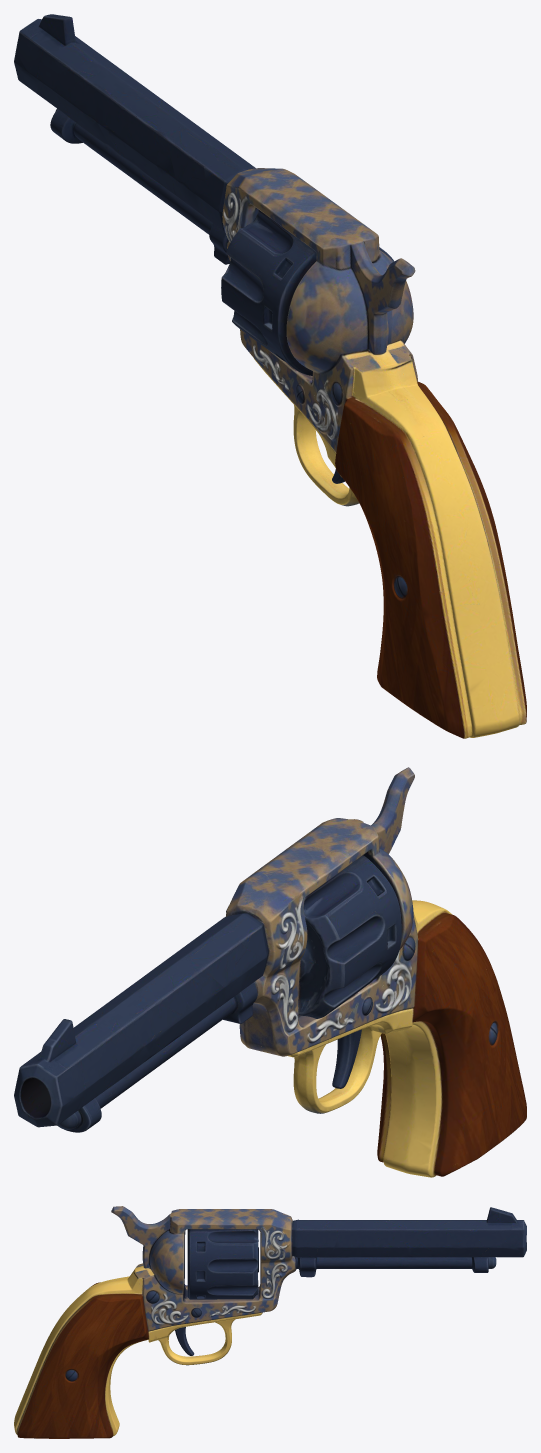
File: revolver_body.glb
The picture shows the model from 3 angles, top to bottom: view 1: azimuth 30°, elevation 25°; view 2: azimuth 150°, elevation 25°; view 3: azimuth 270°, elevation 25°; orthographic projection. The views are drawn at different scales.
Parts seen in each view (by area): view 1: Mesh_0; view 2: Mesh_0; view 3: Mesh_0.
Part boxes in pixels (x1,y1,x2,y2): Mesh_0: (14, 14, 526, 738); Mesh_0: (14, 767, 526, 1177); Mesh_0: (14, 1206, 526, 1438).
Bounding box in the file's own units: 0.0548 × 0.1715 × 0.354.
Materials: 1 (1 with a texture image).
